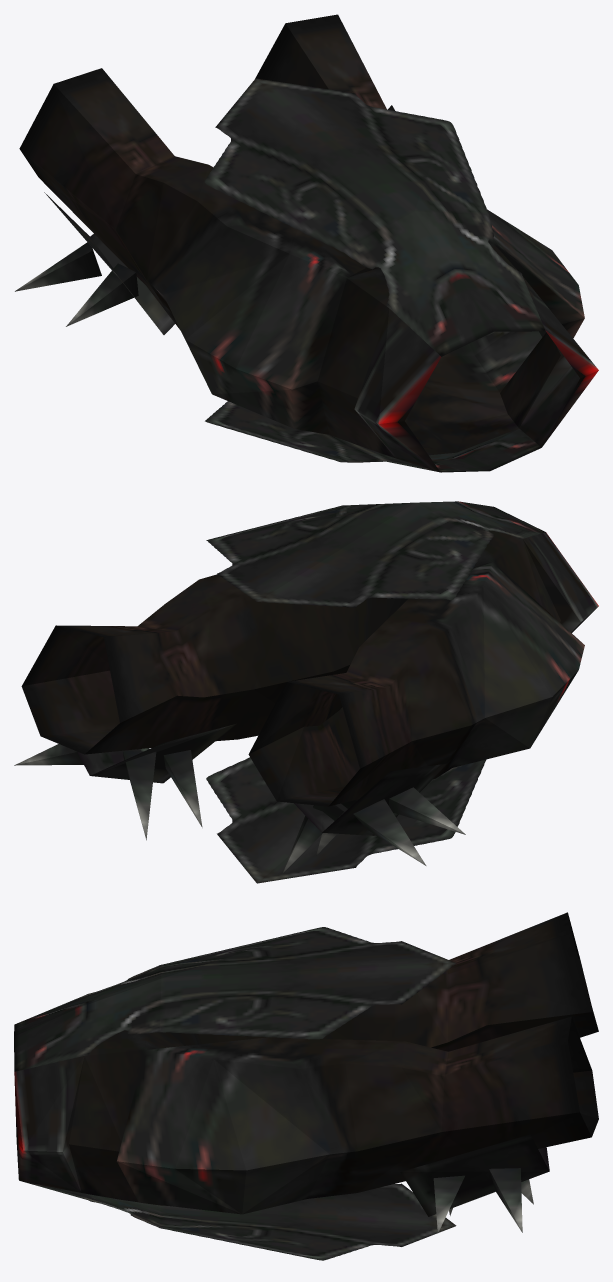
The model's file is warrior_trousers_male_50500.obj.
The picture shows the model from 3 angles, top to bottom: view 1: azimuth 30°, elevation 25°; view 2: azimuth 150°, elevation 25°; view 3: azimuth 270°, elevation 25°; orthographic projection. The views are drawn at different scales.
Parts seen in each view (by area): view 1: warrior_trousers_50500; view 2: warrior_trousers_50500; view 3: warrior_trousers_50500.
Part boxes in pixels (x1=…): warrior_trousers_50500: x1=15, y1=14, x2=598, y2=472; warrior_trousers_50500: x1=14, y1=501, x2=598, y2=883; warrior_trousers_50500: x1=14, y1=912, x2=598, y2=1260.
Bounding box in the file's own units: 27.26 × 17.77 × 35.86.
1 material, 1 textured.
